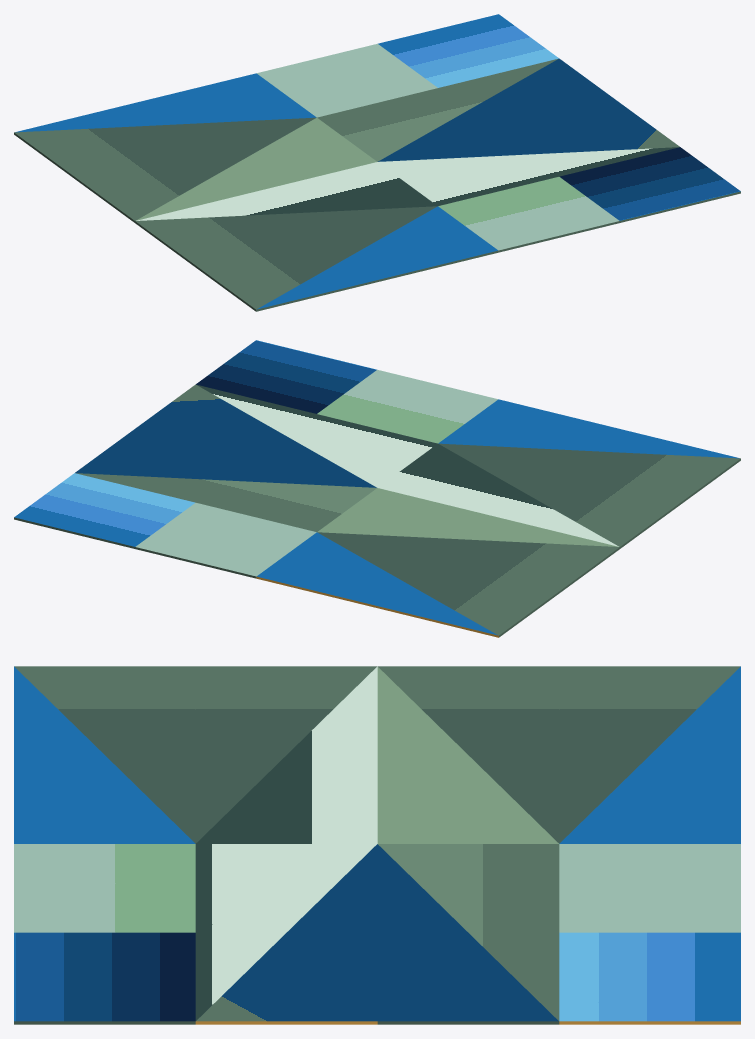
Rendered from Accesories_Carpet.022.glb.
3 renders of one model, top to bottom at view 1: azimuth 30°, elevation 25°; view 2: azimuth 150°, elevation 25°; view 3: azimuth 270°, elevation 25°, orthographic. The views are drawn at different scales.
Visible parts, largest first — view 1: Accesories_Carpet.022; view 2: Accesories_Carpet.022; view 3: Accesories_Carpet.022.
Boxes of the visible parts, x1=… form: Accesories_Carpet.022: x1=14, y1=14, x2=740, y2=311; Accesories_Carpet.022: x1=14, y1=340, x2=740, y2=637; Accesories_Carpet.022: x1=14, y1=666, x2=740, y2=1024.
Bounding box in the file's own units: 5.6 × 0.0237 × 4.85.
Materials: 1 (1 with a texture image).
